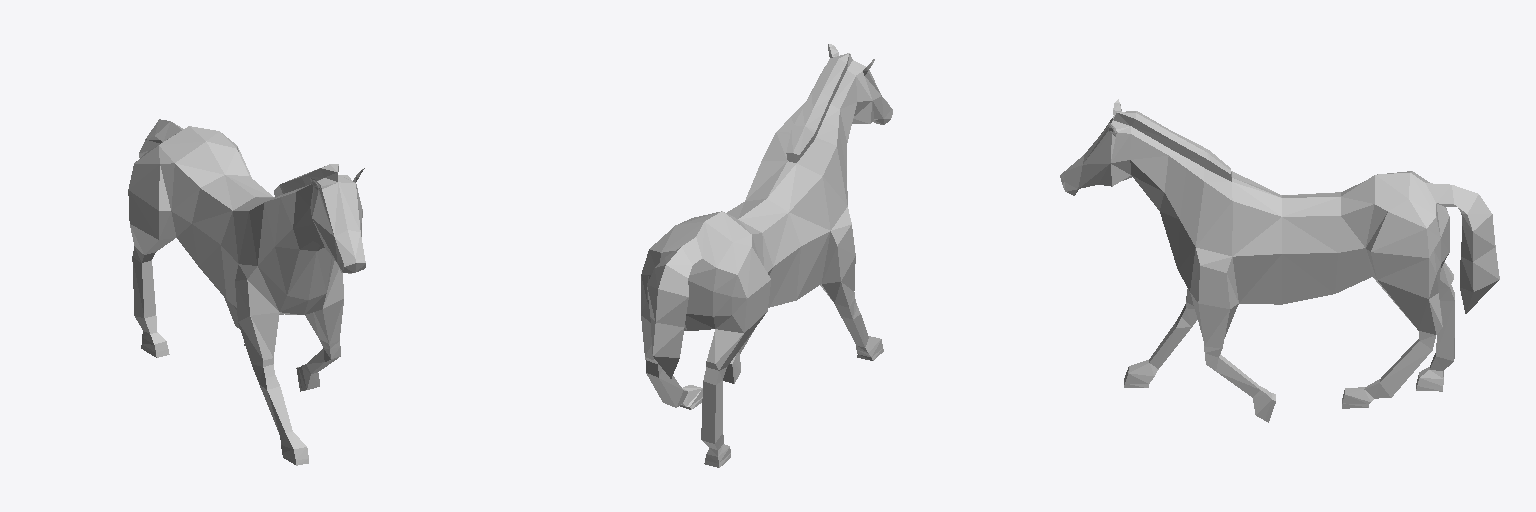
Rendered from Horse2.obj.
The picture shows the model from 3 angles: view 1: azimuth 30°, elevation 25°; view 2: azimuth 150°, elevation 25°; view 3: azimuth 270°, elevation 25°; orthographic projection.
Parts seen in each view (by area): view 1: Horse; view 2: Horse; view 3: Horse.
Boxes of the visible parts, x1=… form: Horse: x1=128, y1=119, x2=365, y2=465; Horse: x1=641, y1=44, x2=892, y2=467; Horse: x1=1060, y1=99, x2=1499, y2=422.
Bounding box in the file's own units: 2.58 × 6.67 × 9.21.